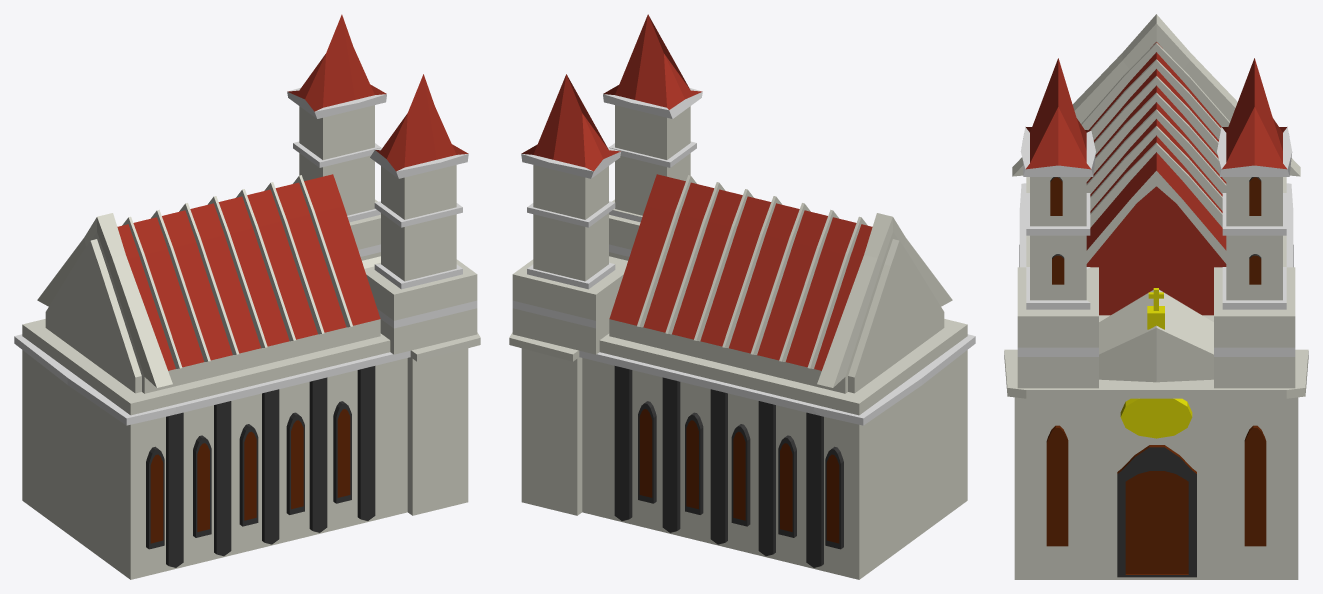
The model's file is _hurch.fbx.
3 renders of one model, left to right at view 1: azimuth 30°, elevation 25°; view 2: azimuth 150°, elevation 25°; view 3: azimuth 270°, elevation 25°, orthographic. The views are drawn at different scales.
Parts seen in each view (by area): view 1: Cube; view 2: Cube; view 3: Cube.
Part boxes in pixels (x1,y1,x2,y2): Cube: (14, 14, 480, 579); Cube: (509, 14, 975, 579); Cube: (1004, 14, 1308, 579).
Bounding box in the file's own units: 1376 × 1562 × 850.
